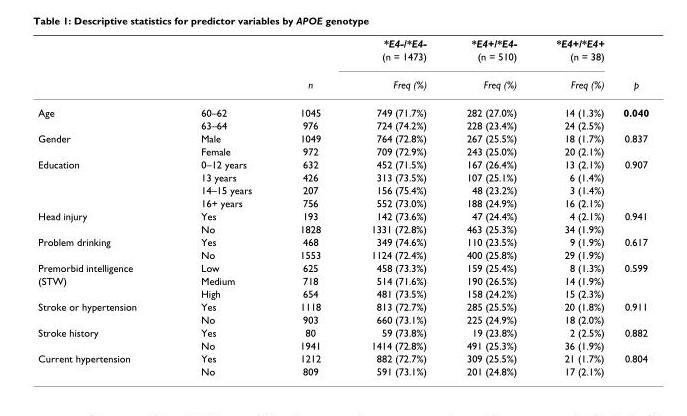table: (37, 37, 648, 376)
table column: (37, 37, 168, 376), (168, 37, 275, 376), (345, 37, 445, 376), (445, 37, 535, 376), (535, 37, 613, 376), (275, 37, 345, 376), (613, 37, 648, 376)
table column header: (37, 37, 648, 97)
table row: (37, 70, 648, 97), (37, 49, 648, 70), (37, 97, 648, 118), (37, 118, 648, 131), (37, 131, 648, 144), (37, 144, 648, 157), (37, 157, 648, 170), (37, 170, 648, 183), (37, 183, 648, 196), (37, 196, 648, 209), (37, 209, 648, 222), (37, 222, 648, 235), (37, 235, 648, 248), (37, 260, 648, 273), (37, 273, 648, 286), (37, 286, 648, 299), (37, 299, 648, 312), (37, 312, 648, 325), (37, 325, 648, 338), (37, 338, 648, 351), (37, 351, 648, 364), (37, 37, 648, 49), (37, 248, 648, 260), (37, 364, 648, 376)
table spanning cell: (37, 157, 168, 209), (345, 37, 445, 97), (445, 37, 535, 97), (535, 37, 613, 97), (37, 97, 168, 131), (275, 37, 345, 97), (37, 131, 168, 157), (37, 209, 168, 235), (37, 273, 168, 299), (37, 299, 168, 325), (37, 325, 168, 351), (37, 235, 168, 260), (37, 351, 168, 376), (613, 37, 648, 97)
